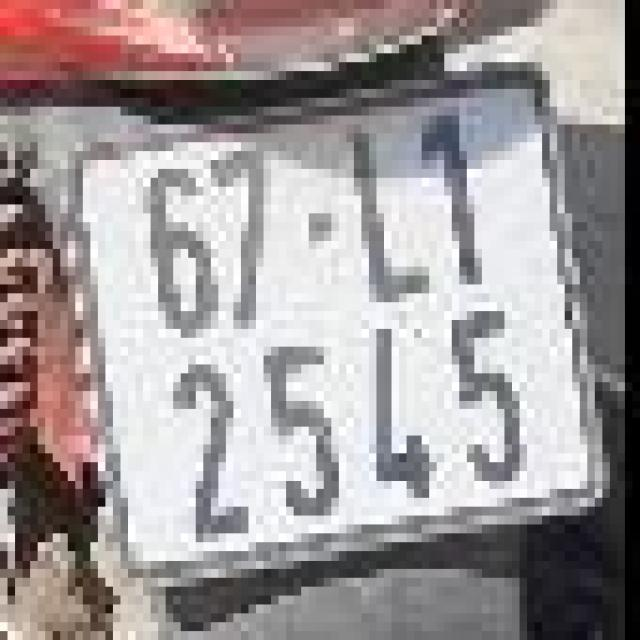1: (412, 104, 497, 294)
2: (149, 347, 268, 552)
4: (350, 316, 445, 506)
5: (247, 332, 358, 530), (438, 295, 540, 494)
6: (135, 158, 228, 343)
7: (203, 135, 296, 331)
L: (335, 115, 444, 315)
